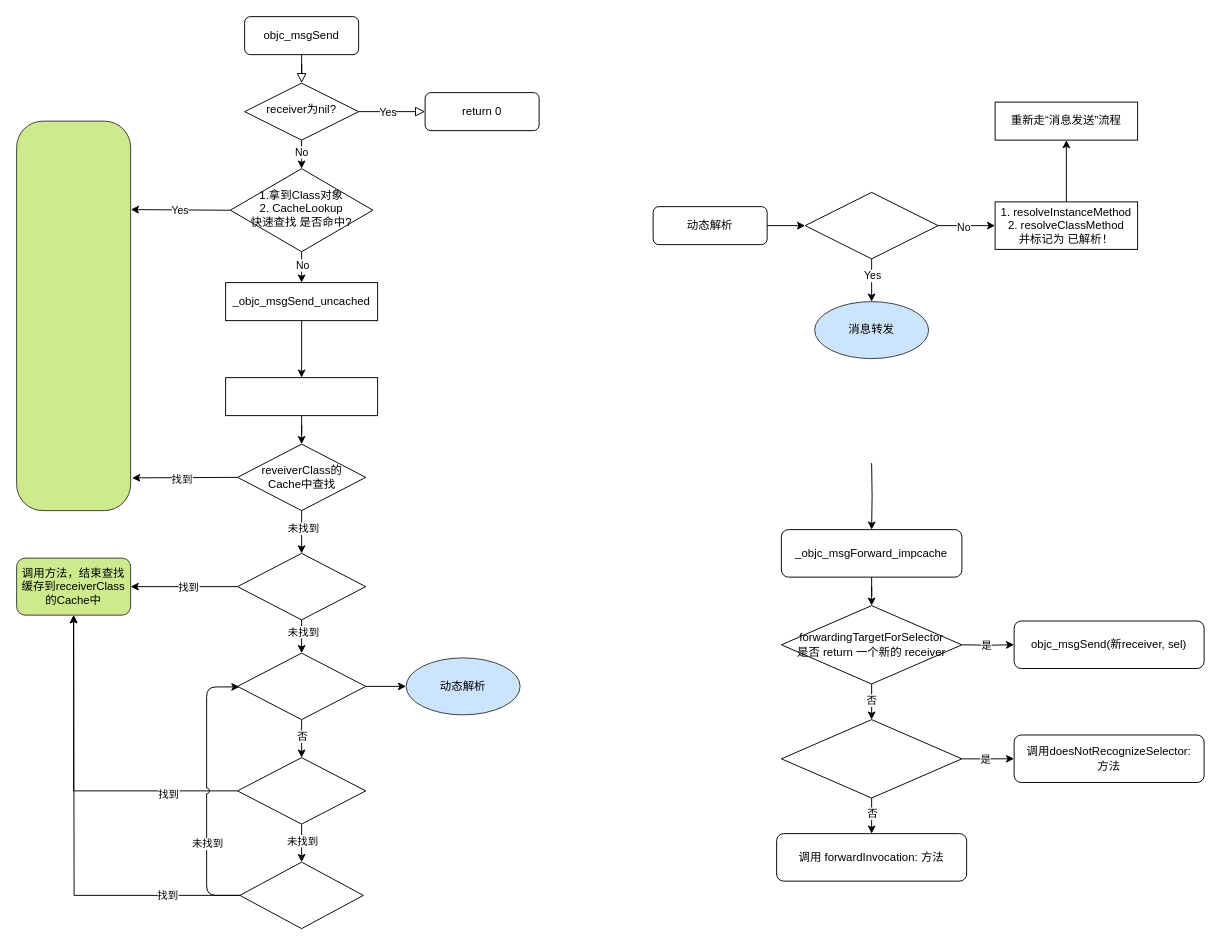
Some shapes in this 1221 by 945 pixel diagram are drawn without their labels. Each missing label, with the centre of its shape:
lookUpImpOrForward: point 301,396
methodSignatureForSelector 是否为 nil: point 871,758
reveiverClass的 method_list中查找: point 301,586
superClass 是否为 nil ?: point 301,686
superClass的 Cache中查找: point 301,790
superClass的 method_list中查找: point 301,895
是否 动态解析 过？: point 871,225
调用方法 结束查找: point 73,315
